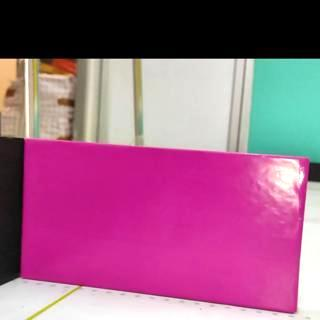xparking: (22, 137, 310, 313)
